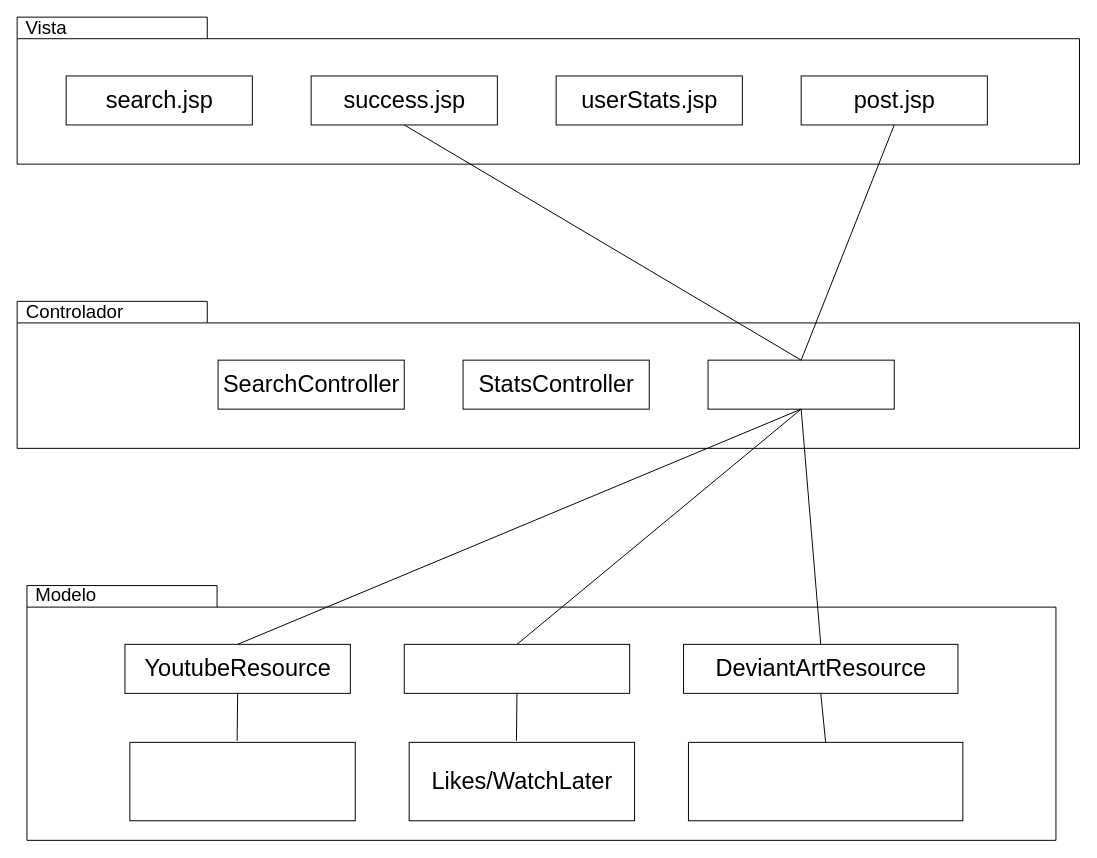
This 1097x858 diagram has some shape labels left out. Here are the shapes that lost their labels. From the top down, the centre of each, then its label:
[800,384]: PostController
[516,668]: DailyMotionResource
[242,781]: Likes/Dislikes/ Comments
[825,781]: Likes/Comments
